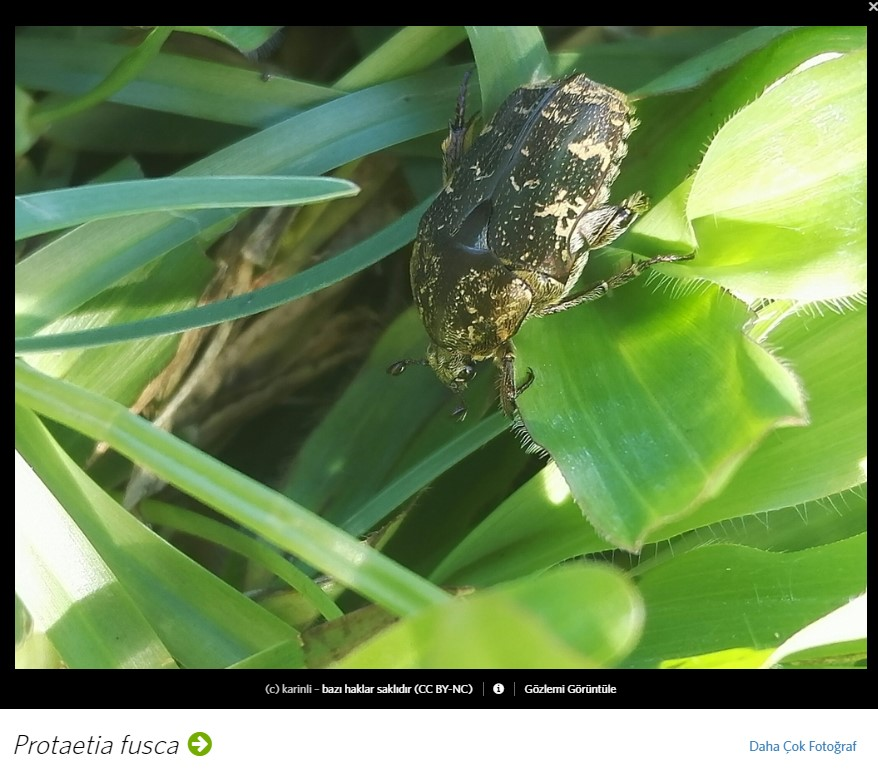Protaetia_fusca: (379, 55, 657, 424)
